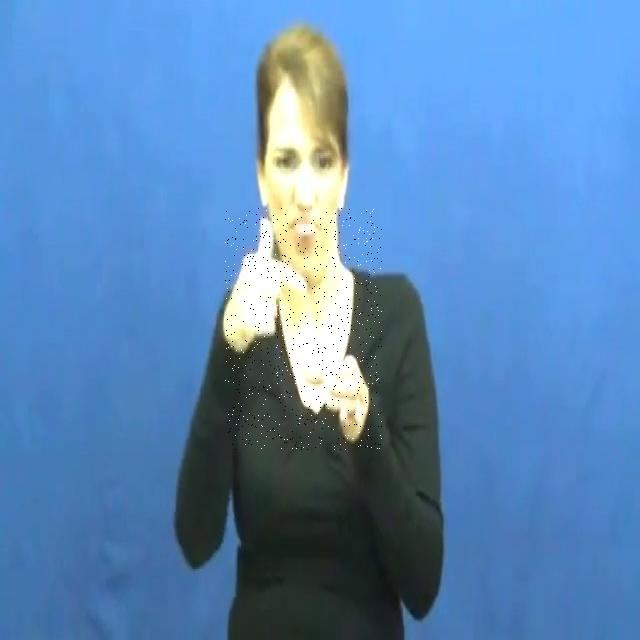straw: (225, 208, 382, 450)
